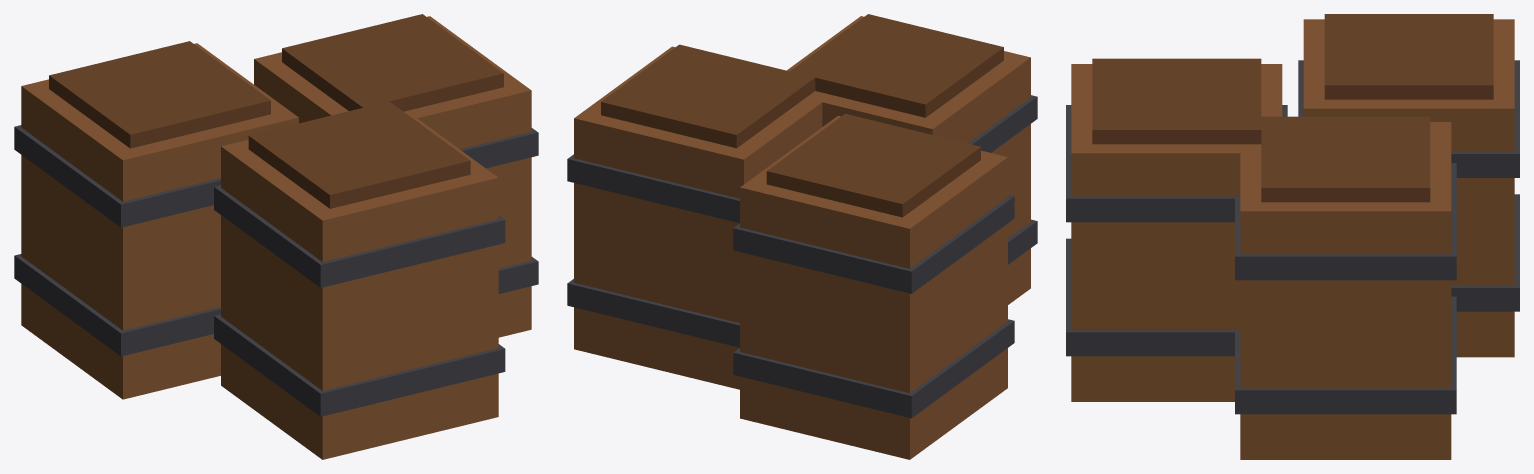
Rendered from Barrels.glb.
3 renders of one model, left to right at view 1: azimuth 30°, elevation 25°; view 2: azimuth 150°, elevation 25°; view 3: azimuth 270°, elevation 25°, orthographic. The views are drawn at different scales.
Visible parts, largest first — view 1: Barrels; view 2: Barrels; view 3: Barrels.
Boxes of the visible parts, x1,y1,x2,y2 form: Barrels: (14, 14, 538, 459); Barrels: (567, 14, 1037, 459); Barrels: (1066, 14, 1519, 459).
Size of the model in its own units: 4.4 by 2.75 by 4.3.
Materials: 1 (1 with a texture image).
